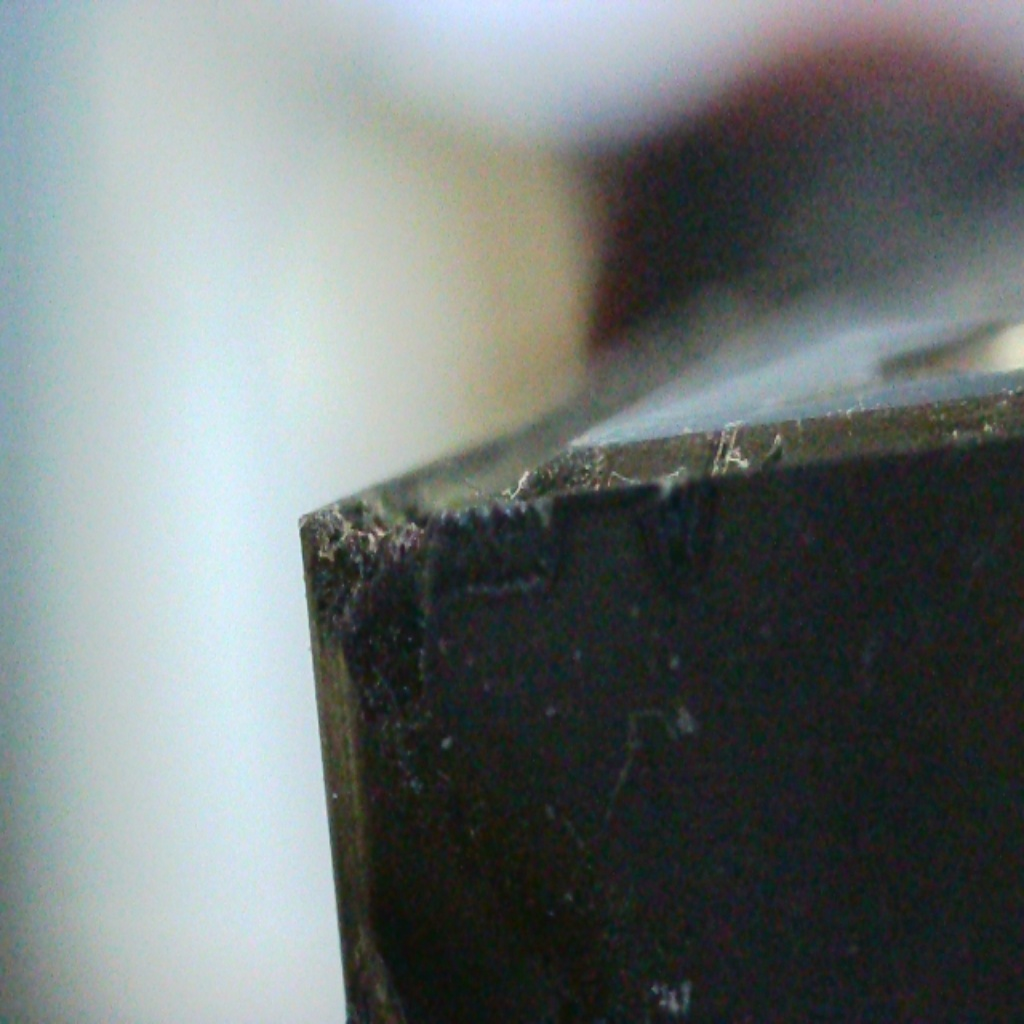flank_wear: (293, 511, 559, 721)
